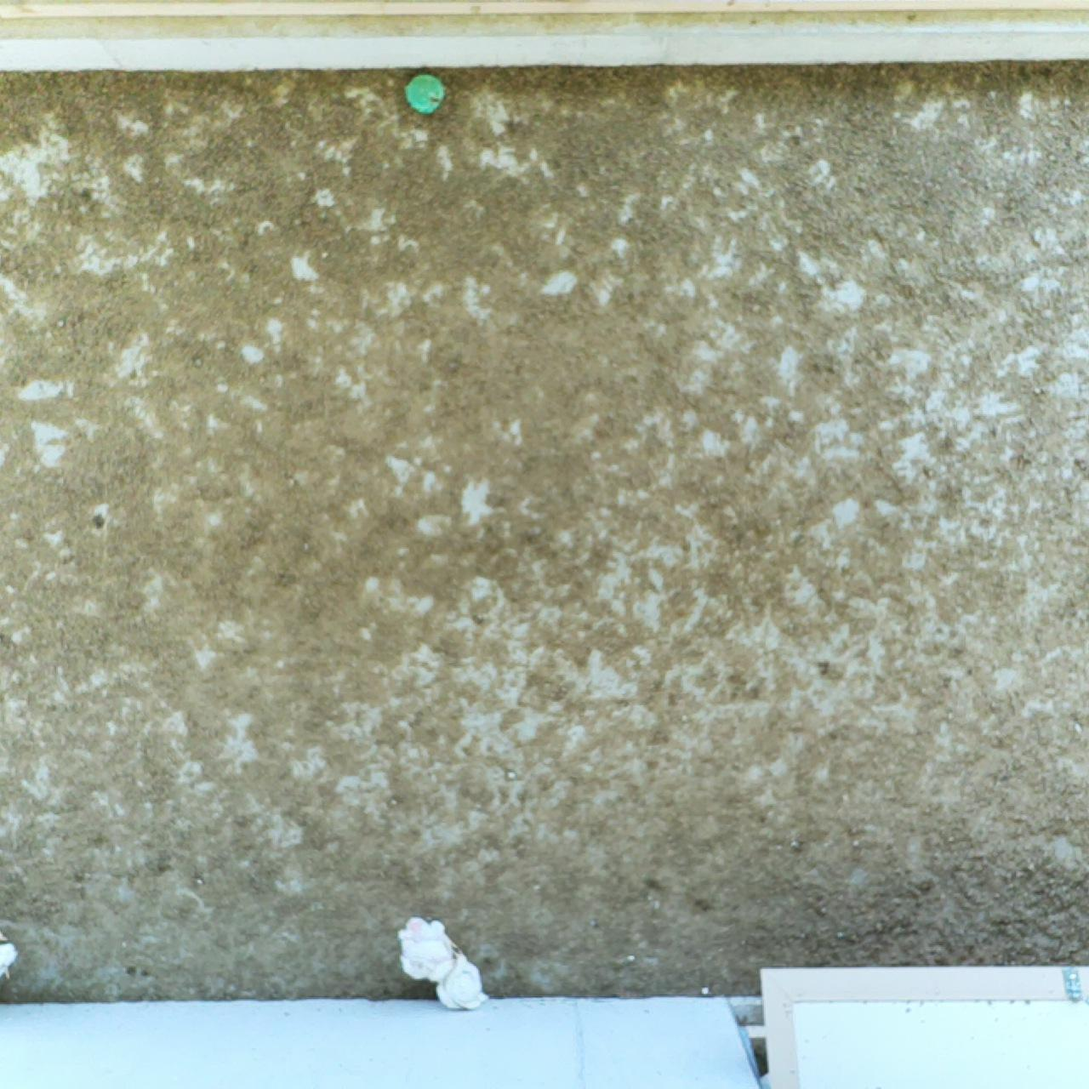chicken: (393, 918, 454, 986), (429, 947, 489, 1016), (0, 932, 17, 984)
